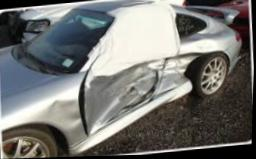Bumper: (229, 41, 244, 74)
Door: (75, 2, 181, 135)
Fender: (1, 70, 88, 147), (160, 23, 239, 96)
